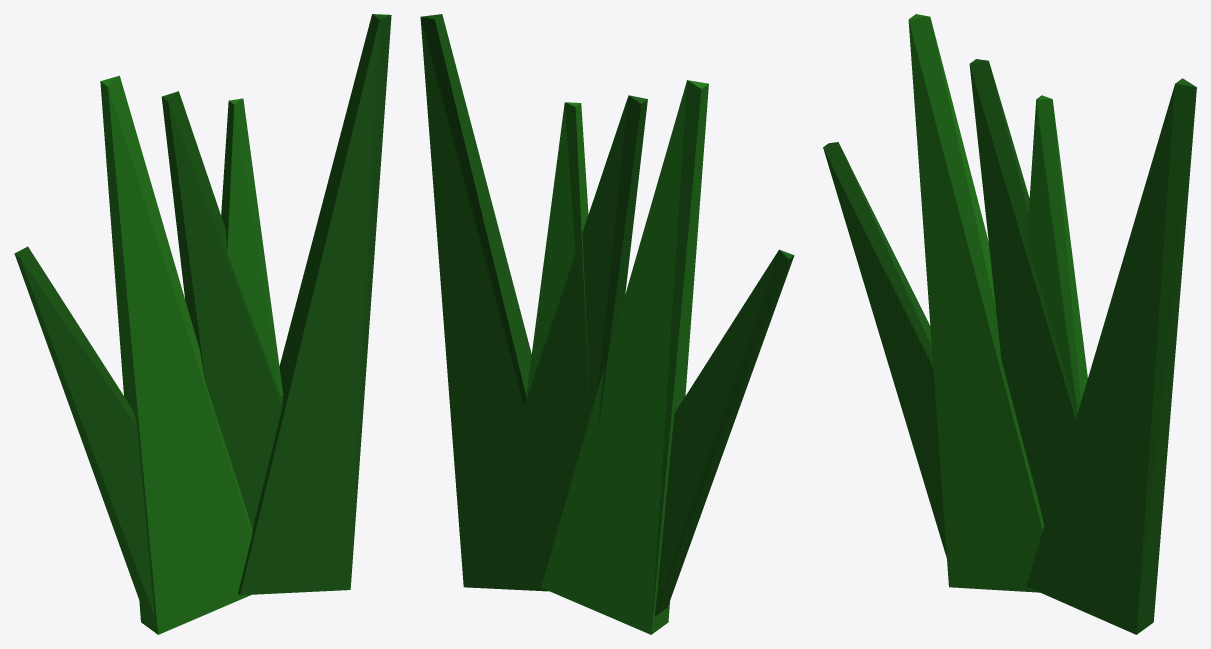
File: Grass_1_vc.fbx
The picture shows the model from 3 angles, left to right: view 1: azimuth 30°, elevation 25°; view 2: azimuth 150°, elevation 25°; view 3: azimuth 330°, elevation 25°; orthographic projection.
Parts seen in each view (by area): view 1: Grass_1_vc; view 2: Grass_1_vc; view 3: Grass_1_vc.
Part boxes in pixels (bbox=[...]): Grass_1_vc: bbox=[14, 14, 391, 634]; Grass_1_vc: bbox=[420, 14, 794, 634]; Grass_1_vc: bbox=[823, 14, 1196, 634].
Bounding box in the file's own units: 0.6143 × 0.8784 × 0.0548.
